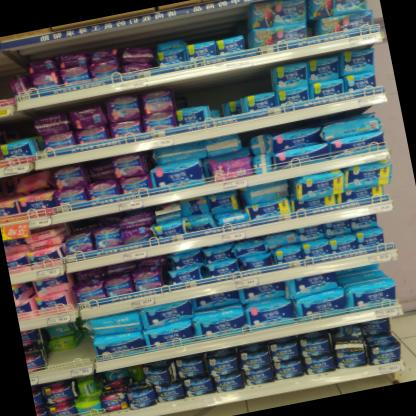empty_space: (46, 348, 90, 374), (0, 72, 17, 113)
